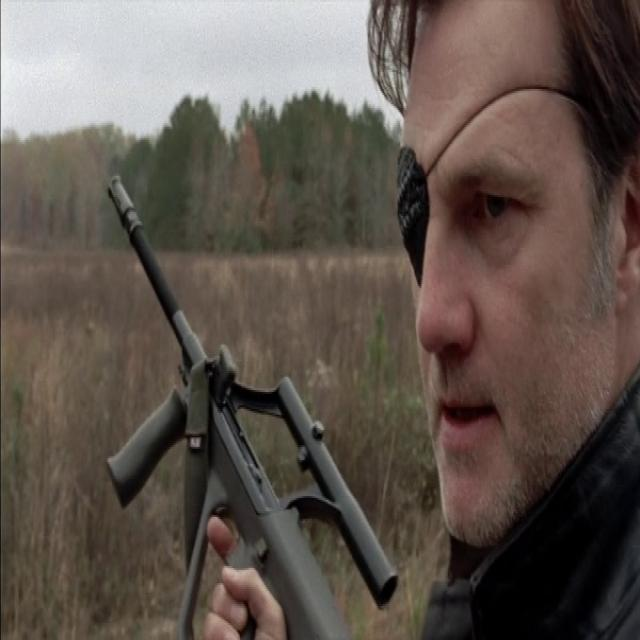rifle: (110, 160, 400, 640)
